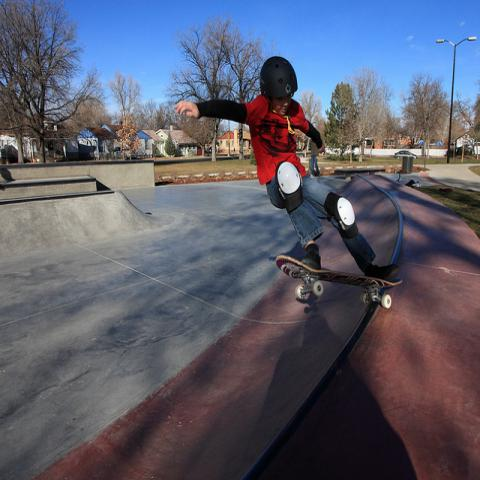car: (394, 150, 418, 159)
